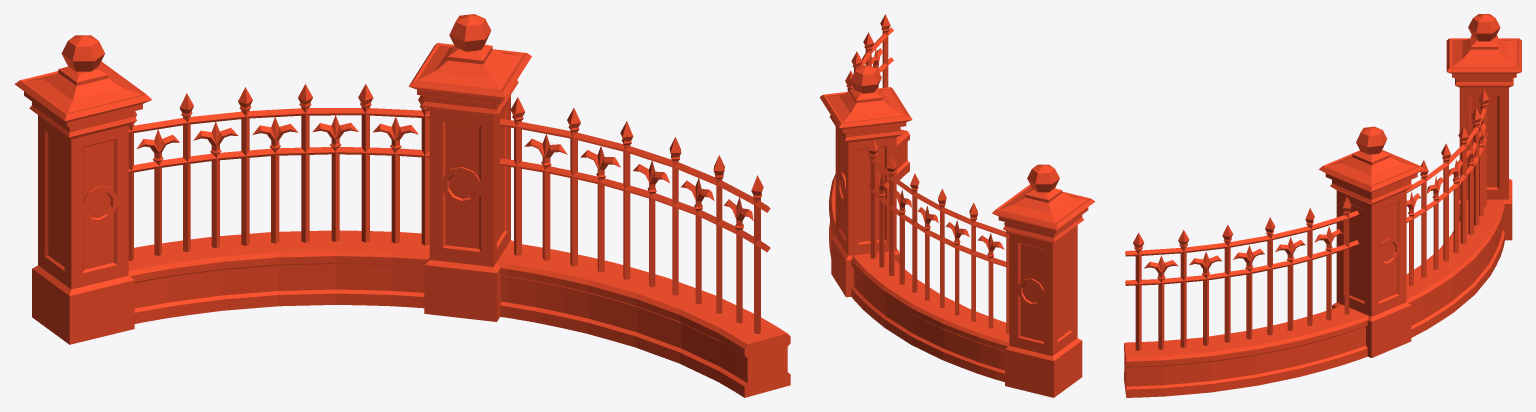
Rendered from SM_Fence_Ornamental_Corner_3m_City.fbx.
The picture shows the model from 3 angles, left to right: view 1: azimuth 30°, elevation 25°; view 2: azimuth 150°, elevation 25°; view 3: azimuth 270°, elevation 25°; orthographic projection. The views are drawn at different scales.
Visible parts, largest first — view 1: SM_Fence_Ornamental_Corner_3m_City; view 2: SM_Fence_Ornamental_Corner_3m_City; view 3: SM_Fence_Ornamental_Corner_3m_City.
Part boxes in pixels (<box>): SM_Fence_Ornamental_Corner_3m_City: <box>14,14,790,397</box>; SM_Fence_Ornamental_Corner_3m_City: <box>819,14,1095,397</box>; SM_Fence_Ornamental_Corner_3m_City: <box>1124,14,1521,397</box>.
Bounding box in the file's own units: 3.46 × 1.86 × 3.14.
